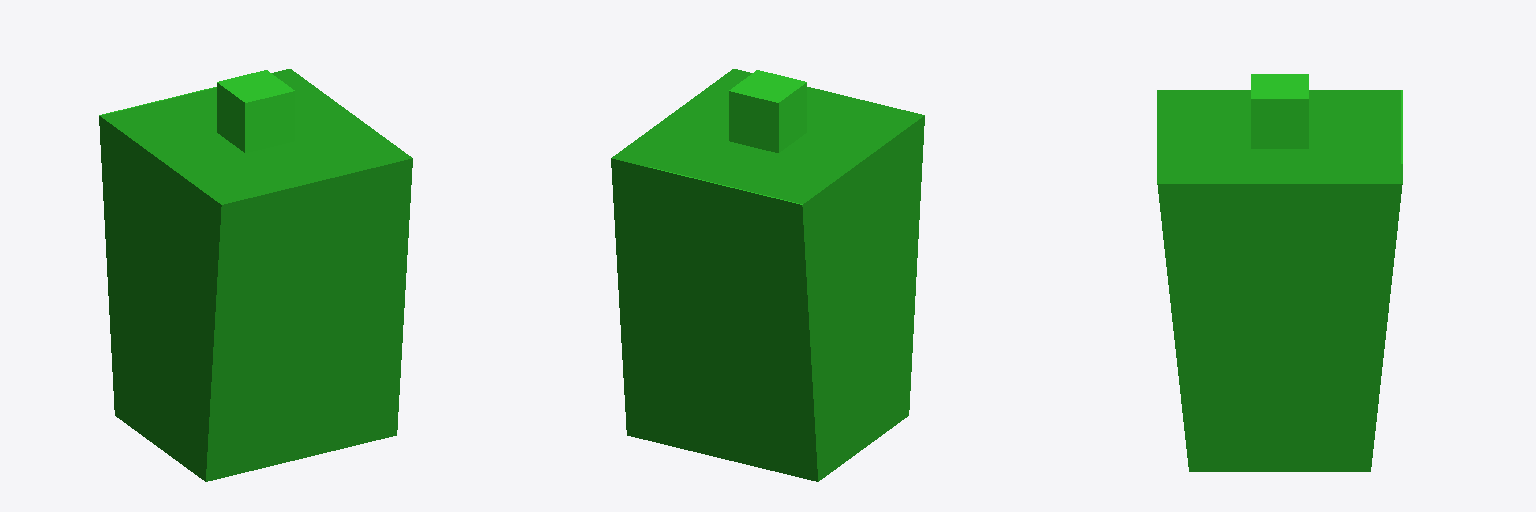
3 renders of one model, left to right at view 1: azimuth 30°, elevation 25°; view 2: azimuth 150°, elevation 25°; view 3: azimuth 270°, elevation 25°, orthographic.
Parts seen in each view (by area): view 1: Cube; view 2: Cube; view 3: Cube.
Part boxes in pixels (x1,y1,x2,y2): Cube: (99, 69, 412, 481); Cube: (611, 69, 924, 481); Cube: (1157, 74, 1402, 471).
Bounding box in the file's own units: 1.39 × 2.35 × 1.54.
Materials: 1 (1 with a texture image).